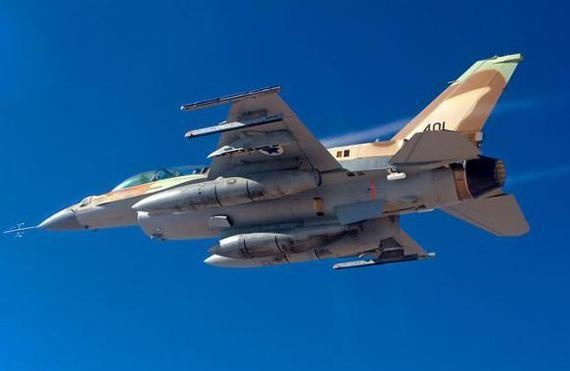airplane: (7, 53, 535, 273)
